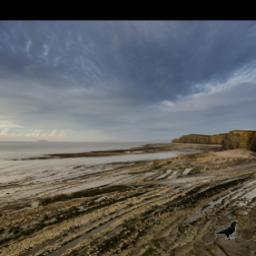Crow: (216, 221, 239, 241)
